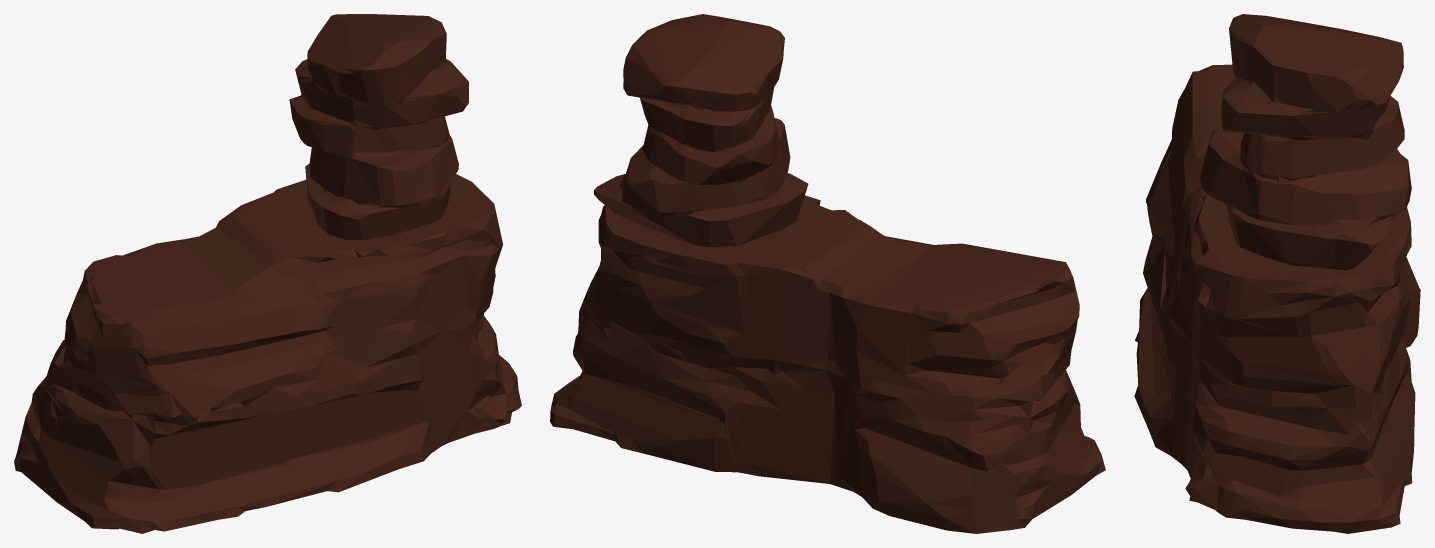
The model's file is sc_FeiTu_mesh_shan7.FBX.
3 views of the same model, side by side, from view 1: azimuth 30°, elevation 25°; view 2: azimuth 150°, elevation 25°; view 3: azimuth 270°, elevation 25° (orthographic). The views are drawn at different scales.
Parts seen in each view (by area): view 1: mesh_shan7; view 2: mesh_shan7; view 3: mesh_shan7.
Boxes of the visible parts, x1,y1,x2,y2 form: mesh_shan7: [14, 14, 521, 533]; mesh_shan7: [550, 14, 1105, 533]; mesh_shan7: [1134, 14, 1420, 533].
Size of the model in its own units: 2105 by 1626 by 970.
